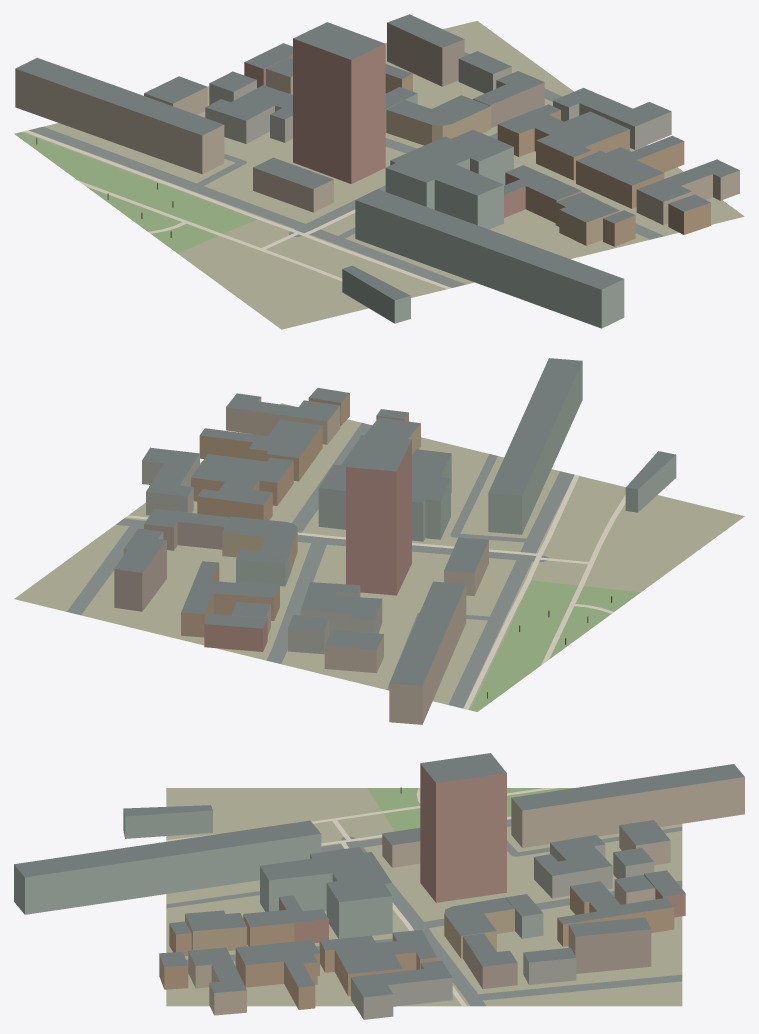
Rendered from sector--2_-3.glb.
The picture shows the model from 3 angles, top to bottom: view 1: azimuth 30°, elevation 25°; view 2: azimuth 150°, elevation 25°; view 3: azimuth 270°, elevation 25°; orthographic projection. The views are drawn at different scales.
Parts seen in each view (by area): view 1: -2:-3-facade, -2:-3-roof, -2:-3-ground, -2:-3-park, -2:-3-road, -2:-3-paving; view 2: -2:-3-ground, -2:-3-facade, -2:-3-roof, -2:-3-road, -2:-3-park, -2:-3-paving; view 3: -2:-3-facade, -2:-3-roof, -2:-3-ground, -2:-3-road, -2:-3-park, -2:-3-paving.
Boxes of the visible parts, left/top/right/bottom form: -2:-3-facade: left=15, top=22, right=739, bottom=328; -2:-3-roof: left=16, top=14, right=739, bottom=300; -2:-3-ground: left=21, top=21, right=744, bottom=329; -2:-3-park: left=14, top=132, right=256, bottom=253; -2:-3-road: left=29, top=52, right=664, bottom=287; -2:-3-paving: left=23, top=130, right=450, bottom=288; -2:-3-ground: left=14, top=403, right=744, bottom=710; -2:-3-facade: left=114, top=361, right=676, bottom=724; -2:-3-roof: left=114, top=358, right=675, bottom=685; -2:-3-road: left=67, top=423, right=574, bottom=708; -2:-3-park: left=470, top=580, right=640, bottom=711; -2:-3-paving: left=126, top=475, right=625, bottom=709; -2:-3-facade: left=14, top=764, right=744, bottom=1019; -2:-3-roof: left=14, top=753, right=744, bottom=997; -2:-3-ground: left=166, top=788, right=682, bottom=1006; -2:-3-road: left=166, top=819, right=682, bottom=1006; -2:-3-park: left=367, top=788, right=573, bottom=831; -2:-3-paving: left=166, top=788, right=558, bottom=1005.
Size of the model in its own units: 213 by 51.2 by 283.
